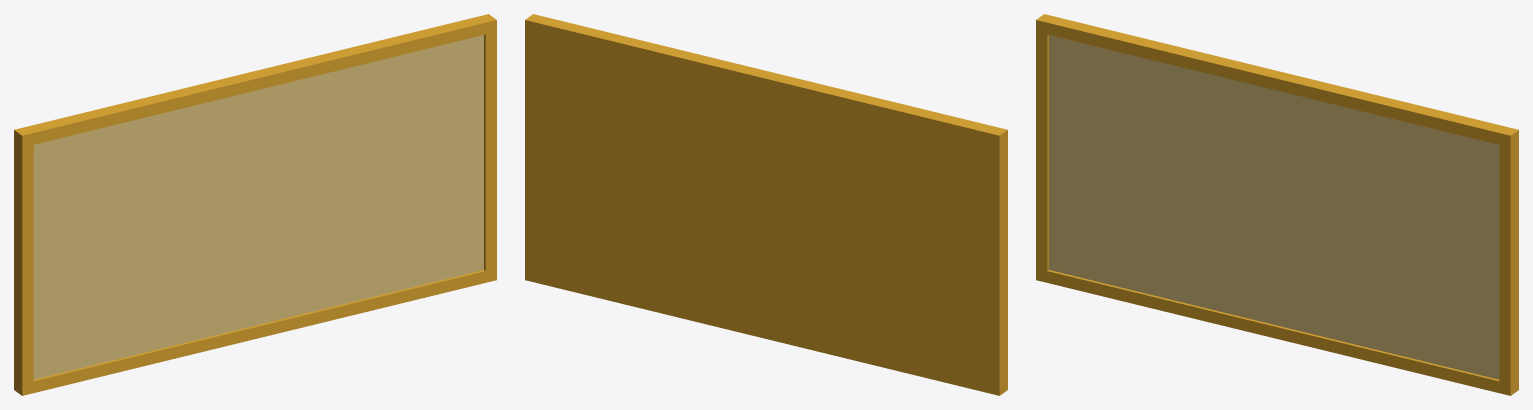
File: NoticeBoard.fbx
3 views of the same model, side by side, from view 1: azimuth 30°, elevation 25°; view 2: azimuth 150°, elevation 25°; view 3: azimuth 330°, elevation 25° (orthographic).
Parts seen in each view (by area): view 1: NoticeBoard; view 2: NoticeBoard; view 3: NoticeBoard.
Part boxes in pixels (left/top/right/bottom): NoticeBoard: left=14, top=14, right=496, bottom=395; NoticeBoard: left=525, top=14, right=1007, bottom=395; NoticeBoard: left=1036, top=14, right=1518, bottom=395.
Size of the model in its own units: 420 by 220 by 12.5.
